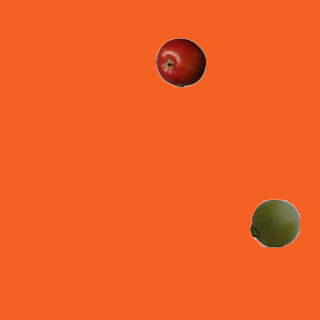Apple Braeburn: (155, 37, 205, 87)
Grape White 4: (249, 197, 299, 247)
